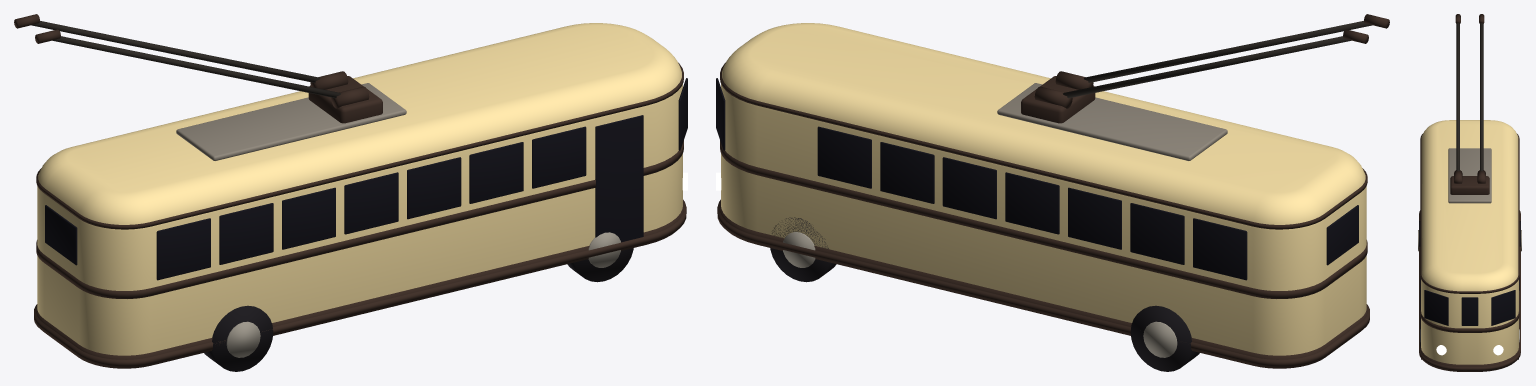
The model's file is trolley1938.glb.
3 views of the same model, side by side, from view 1: azimuth 30°, elevation 25°; view 2: azimuth 150°, elevation 25°; view 3: azimuth 270°, elevation 25° (orthographic). The views are drawn at different scales.
Parts seen in each view (by area): view 1: T_body, T_catwalk, T_door, T_belt, T_rub, T_skirt, T_drip, T_win_0_-1, T_win_4_-1, T_win_6_-1, T_win_3_-1, T_win_5_-1 (+11 smaller); view 2: T_body, T_catwalk, T_belt, T_rub, T_skirt, T_drip, T_win_0_1, T_win_4_1, T_win_6_1, T_win_3_1, T_win_5_1, T_win_1_1 (+10 smaller); view 3: T_body, T_catwalk, T_rub, T_drip, T_wind_0, T_wind_2, T_base, T_pole_1, T_pole_-1, T_belt, T_wind_1, T_skirt (+2 smaller).
Part boxes in pixels (x1,y1,x2,y2): T_body: (37,23,682,355); T_catwalk: (176,83,406,160); T_door: (595,115,643,242); T_belt: (36,140,683,298); T_rub: (34,199,686,367); T_skirt: (36,201,683,368); T_drip: (36,62,683,229); T_win_0_-1: (156,218,210,280); T_win_4_-1: (407,157,461,219); T_win_6_-1: (532,126,586,188); T_win_3_-1: (344,172,398,234); T_win_5_-1: (469,142,523,203); T_body: (721,23,1366,355); T_catwalk: (997,83,1227,160); T_belt: (720,140,1367,298); T_rub: (717,199,1369,367); T_skirt: (720,201,1367,368); T_drip: (720,62,1367,229); T_win_0_1: (1193,218,1247,280); T_win_4_1: (942,157,996,219); T_win_6_1: (817,126,871,188); T_win_3_1: (1005,172,1059,234); T_win_5_1: (880,142,934,203); T_win_1_1: (1130,203,1184,264); T_body: (1421,120,1518,364); T_catwalk: (1448,148,1491,203); T_rub: (1419,210,1520,371); T_drip: (1420,134,1519,293); T_wind_0: (1424,290,1448,325); T_wind_2: (1491,290,1515,325); T_base: (1450,176,1489,194); T_pole_1: (1480,23,1483,171); T_pole_-1: (1456,23,1459,171); T_belt: (1420,290,1519,332); T_wind_1: (1461,297,1478,325); T_skirt: (1420,317,1519,371).
Size of the model in its own units: 10.62 by 5.57 by 2.65.
